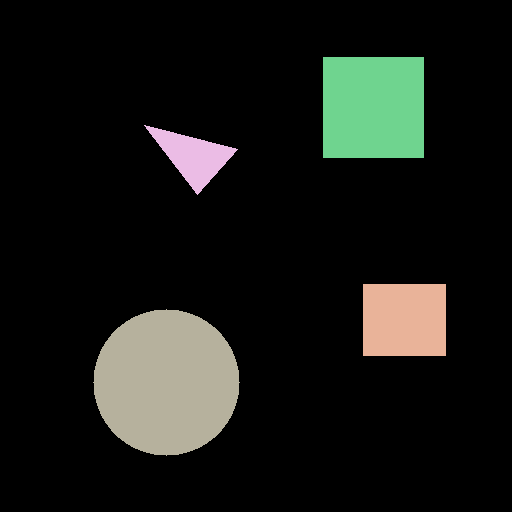circle: (93, 309, 239, 455)
rectangle: (363, 284, 445, 355)
square: (323, 57, 423, 157)
triangle: (144, 125, 237, 194)
